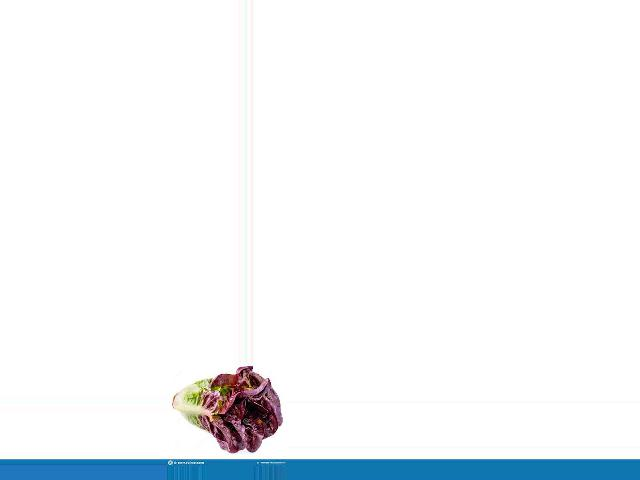lettuce: (171, 369, 280, 453)
